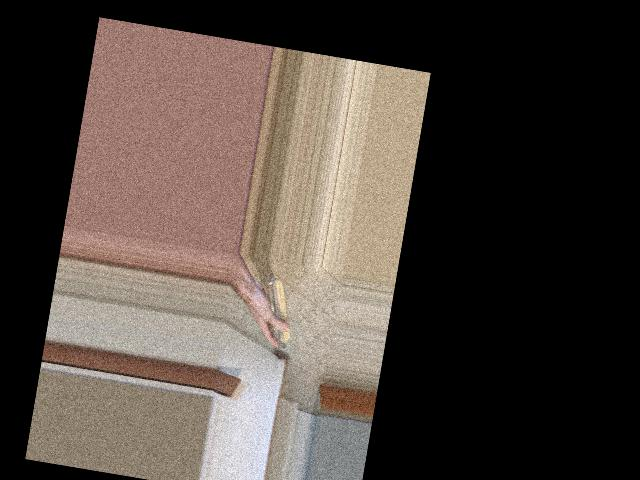cheese: (240, 281, 306, 354)
